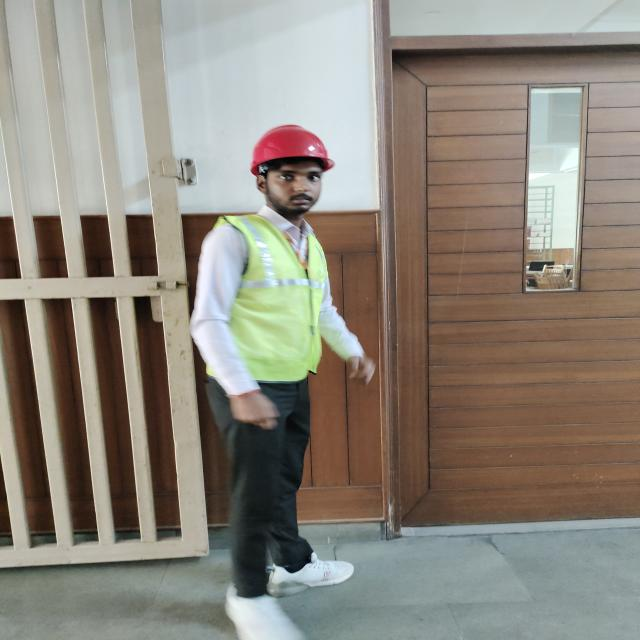safe: (197, 126, 351, 638)
